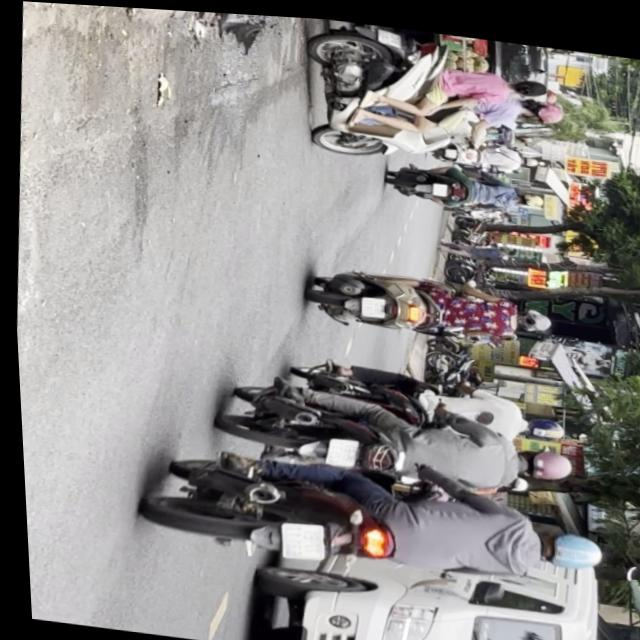helmet: (525, 520, 599, 569), (512, 440, 569, 478), (518, 91, 564, 119), (517, 408, 562, 436)
licenseplate: (131, 436, 602, 602), (207, 366, 577, 499), (293, 14, 573, 175), (278, 349, 566, 442), (299, 256, 554, 349)
motorcyclist: (511, 301, 550, 329), (508, 71, 548, 94)
nohelmet: (272, 517, 322, 560), (322, 434, 353, 466), (357, 292, 383, 314), (378, 24, 401, 42)
